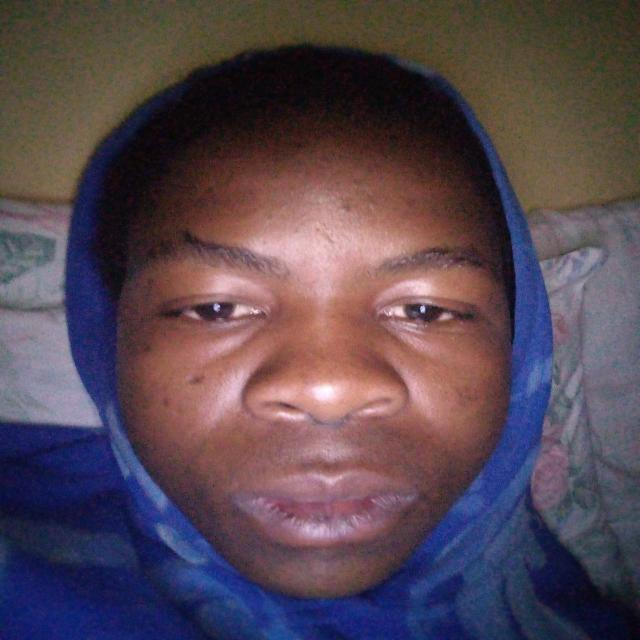acne: (338, 201, 358, 215), (203, 186, 216, 196)
